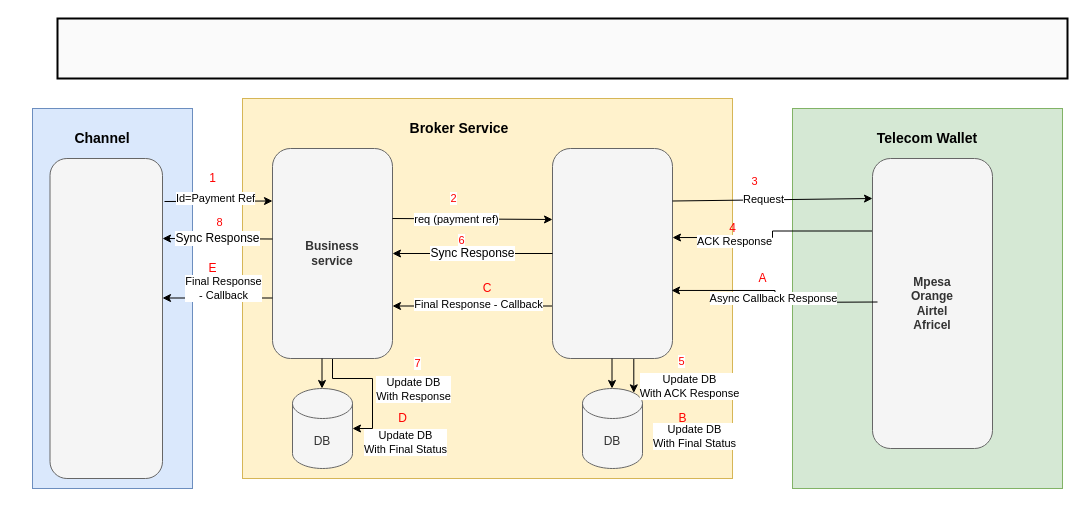
This 1085x506 diagram has some shape labels left out. Each missing label, with the box of its shape:
Equity Mobile App STK OTC: (49, 158, 162, 478)
PCES BROKER SERVICE: (56, 17, 1068, 79)
Technical Service: (552, 148, 672, 358)
